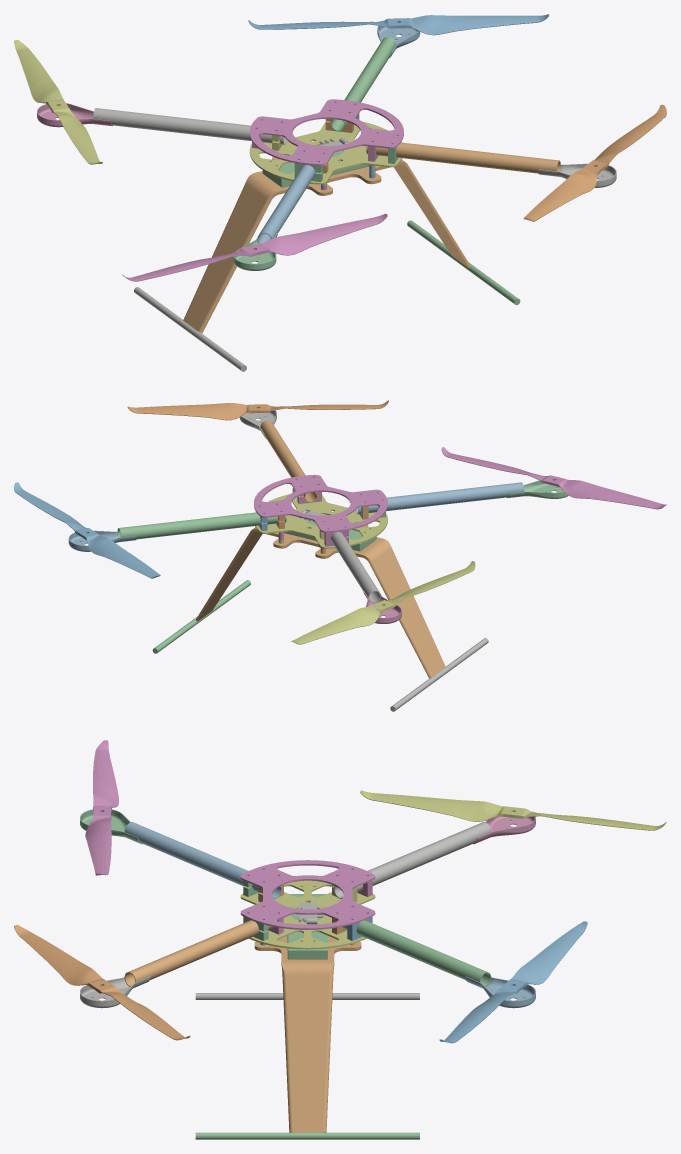
The model's file is case-05_fable52.glb.
3 renders of one model, top to bottom at view 1: azimuth 30°, elevation 25°; view 2: azimuth 150°, elevation 25°; view 3: azimuth 270°, elevation 25°, orthographic. The views are drawn at different scales.
Visible parts, largest first — view 1: c00023, c00002, c00020, c00022, c00001, c00003, c00019, c00005, c00021, c00006, c00004, c00025 (+6 smaller); view 2: c00023, c00002, c00019, c00022, c00021, c00001, c00004, c00020, c00006, c00005, c00003, c00025 (+3 smaller); view 3: c00023, c00002, c00021, c00019, c00020, c00001, c00022, c00003, c00004, c00006, c00005, c00024 (+6 smaller).
Part boxes in pixels (x1,y1,x2,y2): c00023: [183, 157, 470, 333]; c00002: [249, 99, 403, 165]; c00020: [248, 14, 549, 35]; c00022: [122, 213, 387, 281]; c00001: [249, 121, 402, 184]; c00003: [366, 142, 560, 173]; c00019: [523, 104, 666, 221]; c00005: [93, 108, 286, 144]; c00021: [14, 39, 102, 164]; c00006: [257, 165, 315, 243]; c00004: [330, 37, 396, 131]; c00025: [134, 287, 246, 371]; c00023: [196, 524, 445, 678]; c00002: [254, 474, 387, 532]; c00019: [127, 400, 388, 420]; c00022: [441, 447, 666, 509]; c00021: [291, 561, 475, 644]; c00001: [255, 494, 387, 548]; c00004: [117, 512, 286, 539]; c00020: [14, 482, 160, 578]; c00006: [355, 482, 524, 514]; c00005: [331, 532, 381, 603]; c00003: [260, 420, 317, 502]; c00025: [390, 638, 488, 711]; c00023: [254, 936, 361, 1132]; c00002: [240, 860, 375, 929]; c00021: [360, 790, 666, 830]; c00019: [14, 924, 190, 1040]; c00020: [439, 921, 587, 1043]; c00001: [240, 880, 375, 949]; c00022: [85, 740, 118, 875]; c00003: [124, 920, 273, 986]; c00004: [342, 920, 491, 986]; c00006: [124, 822, 281, 898]; c00005: [334, 822, 491, 898]; c00024: [195, 1132, 419, 1139].
Bounding box in the file's own units: 791 × 216 × 728.
